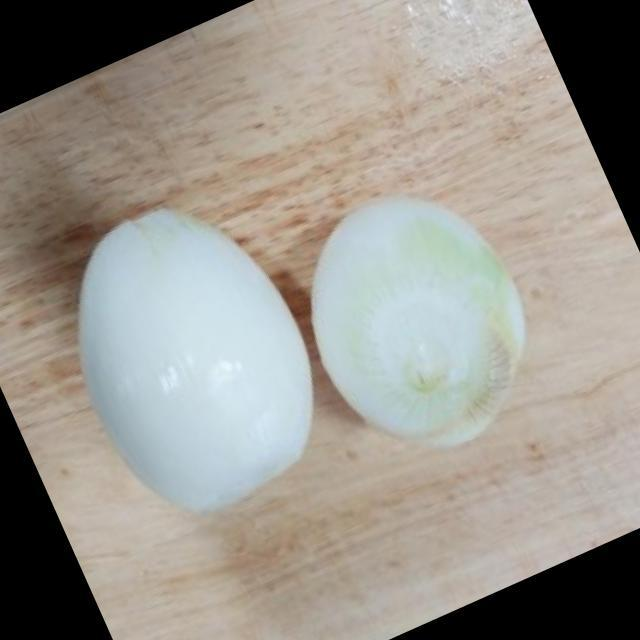Onion: (75, 207, 313, 509), (313, 193, 526, 450)
